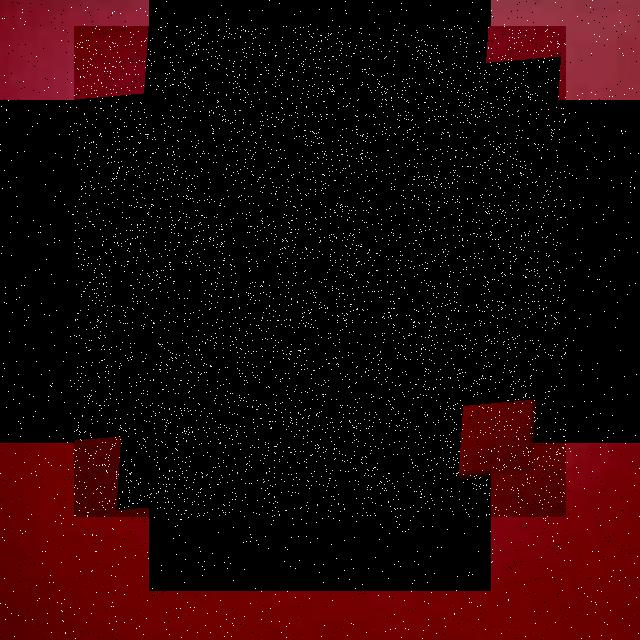lima puluh ribu rupiah: (74, 26, 566, 517)
